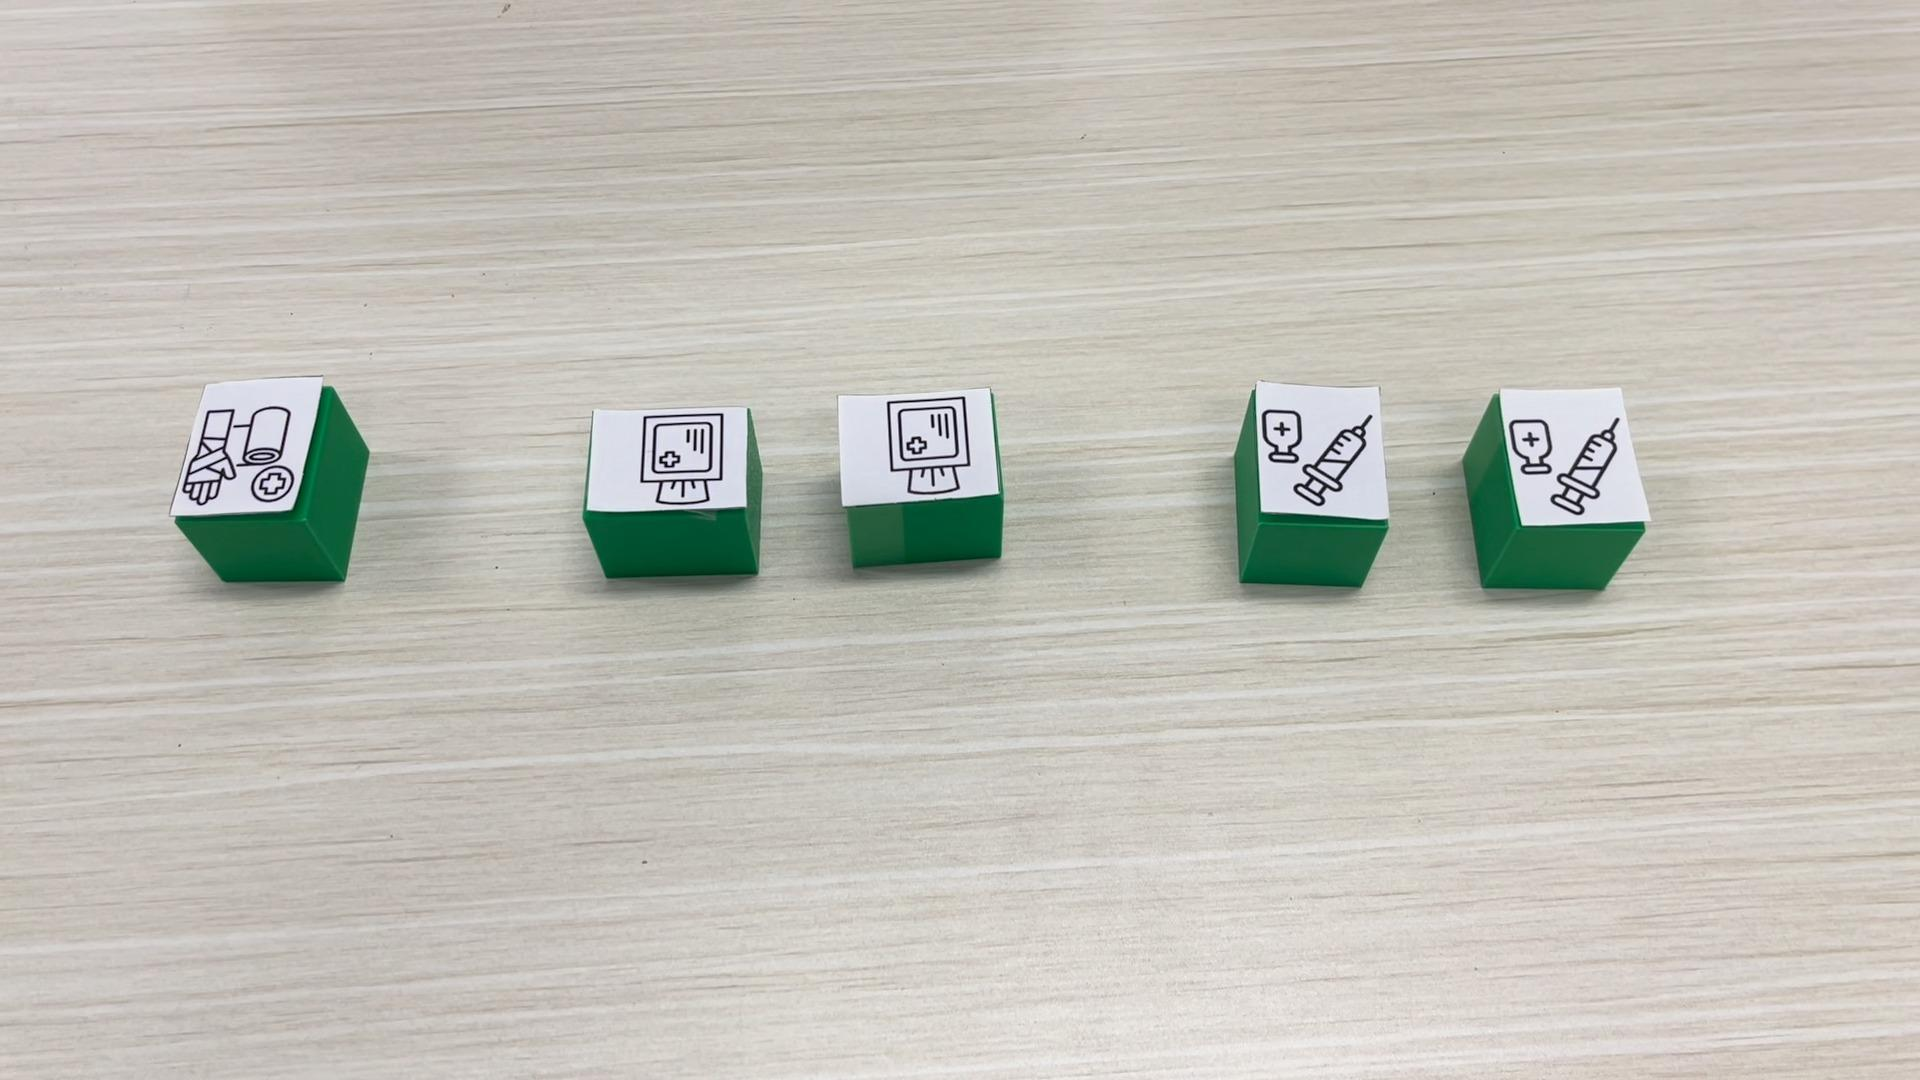Bandages: (170, 375, 367, 583)
Gauze: (582, 404, 764, 578), (837, 386, 1007, 567)
antiseptic cream: (1462, 382, 1650, 591), (1233, 380, 1390, 588)
